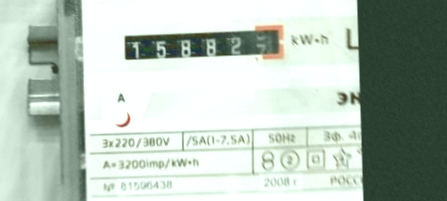1: (128, 39, 138, 57)
2: (227, 34, 240, 54)
5: (150, 38, 165, 57)
7: (252, 40, 264, 52)
8: (201, 34, 215, 56), (177, 36, 190, 57)
screen: (116, 21, 286, 66)
